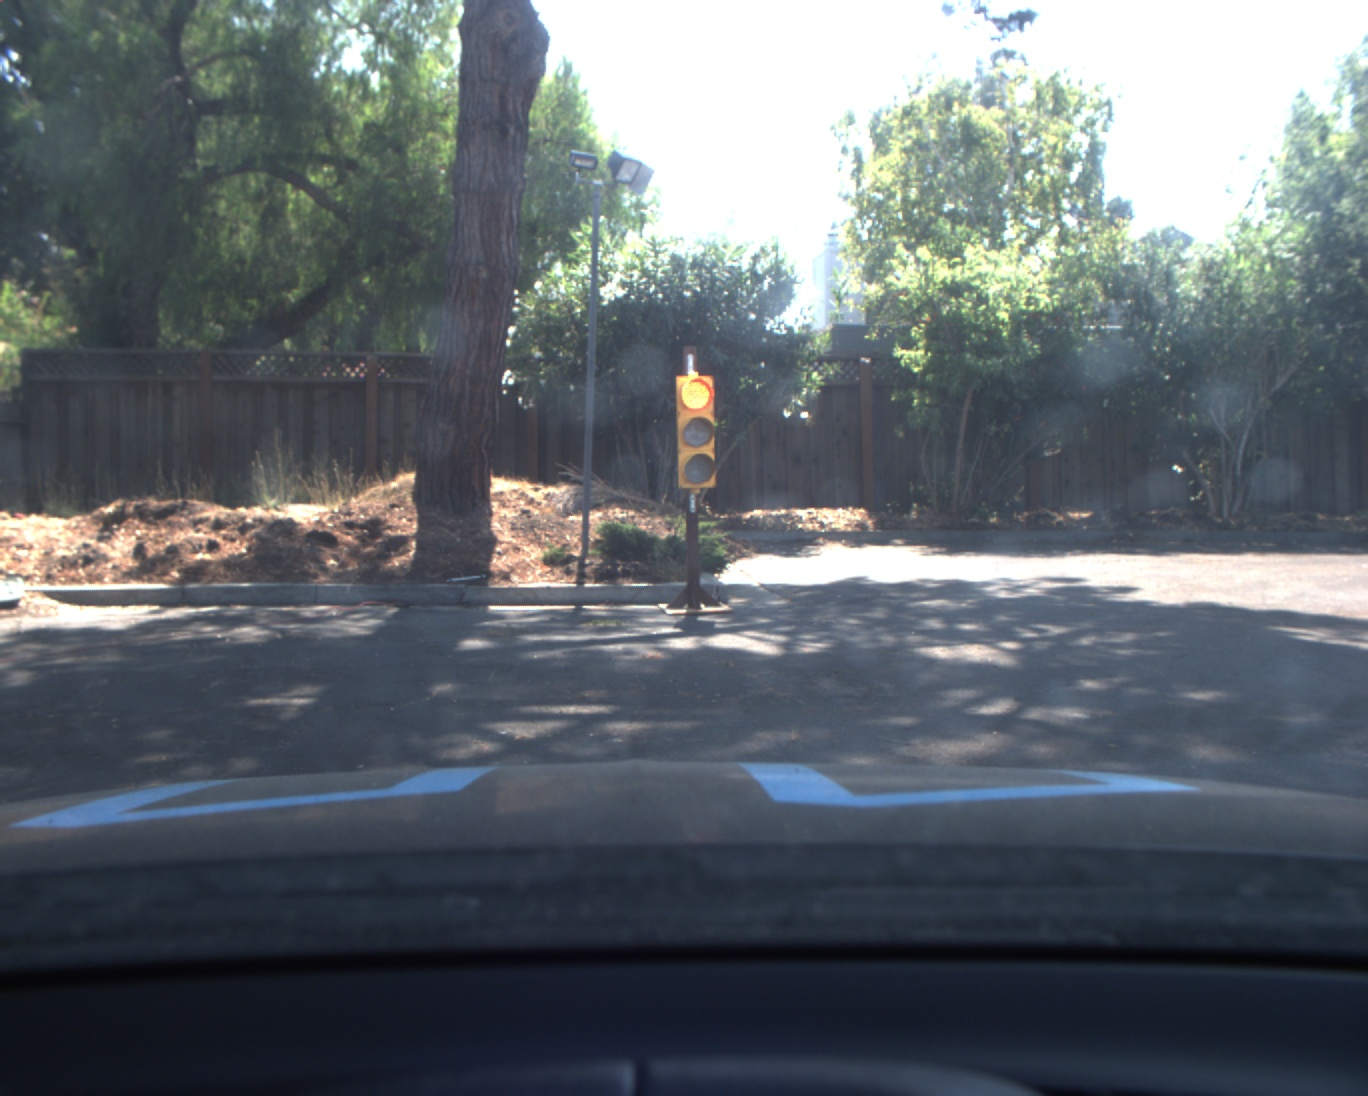red: (675, 376, 715, 487)
